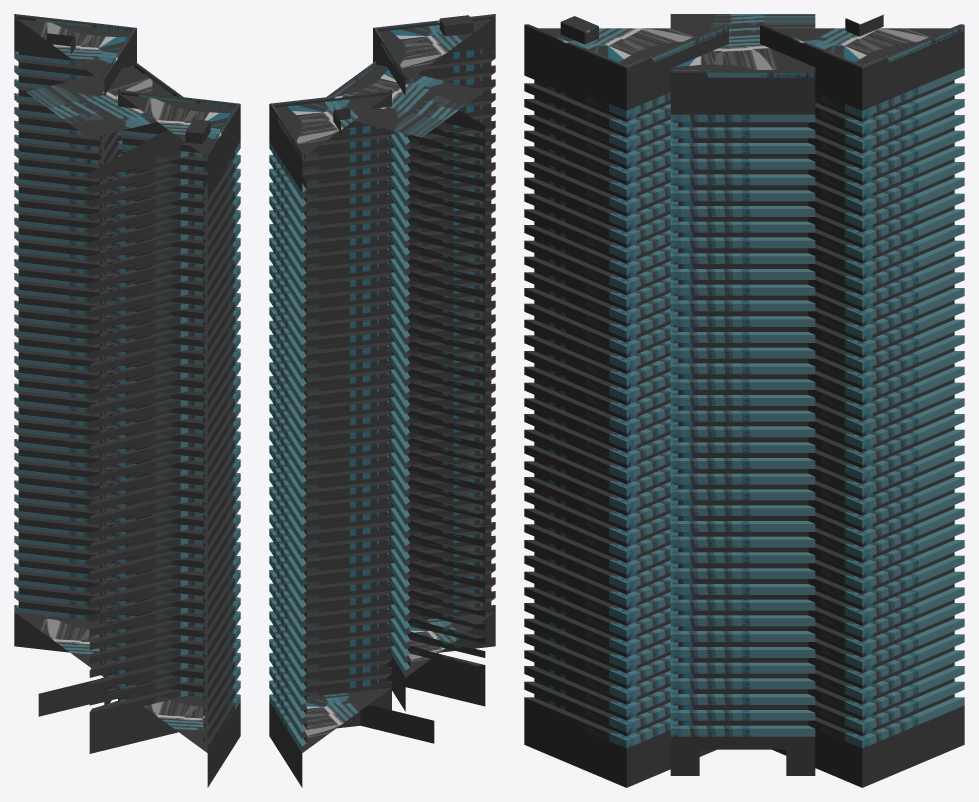
The model's file is Building_14.fbx.
3 views of the same model, side by side, from view 1: azimuth 30°, elevation 25°; view 2: azimuth 150°, elevation 25°; view 3: azimuth 270°, elevation 25° (orthographic). The views are drawn at different scales.
Parts seen in each view (by area): view 1: b_14; view 2: b_14; view 3: b_14.
Part boxes in pixels (x1,y1,x2,y2): b_14: (14,14,240,787); b_14: (269,14,495,787); b_14: (524,14,964,787).
Size of the model in its own units: 3.77 by 17.51 by 9.59.
Materials: 1 (1 with a texture image).
